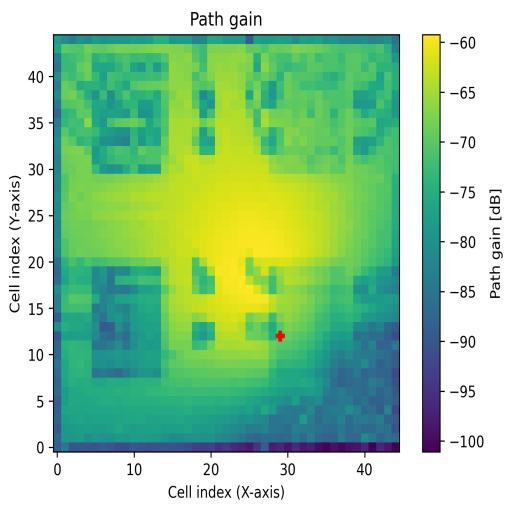Concrete: (269, 54, 346, 173)
Glass: (91, 54, 169, 173)
Metal: (276, 267, 362, 401)
Wood: (92, 266, 162, 380)
